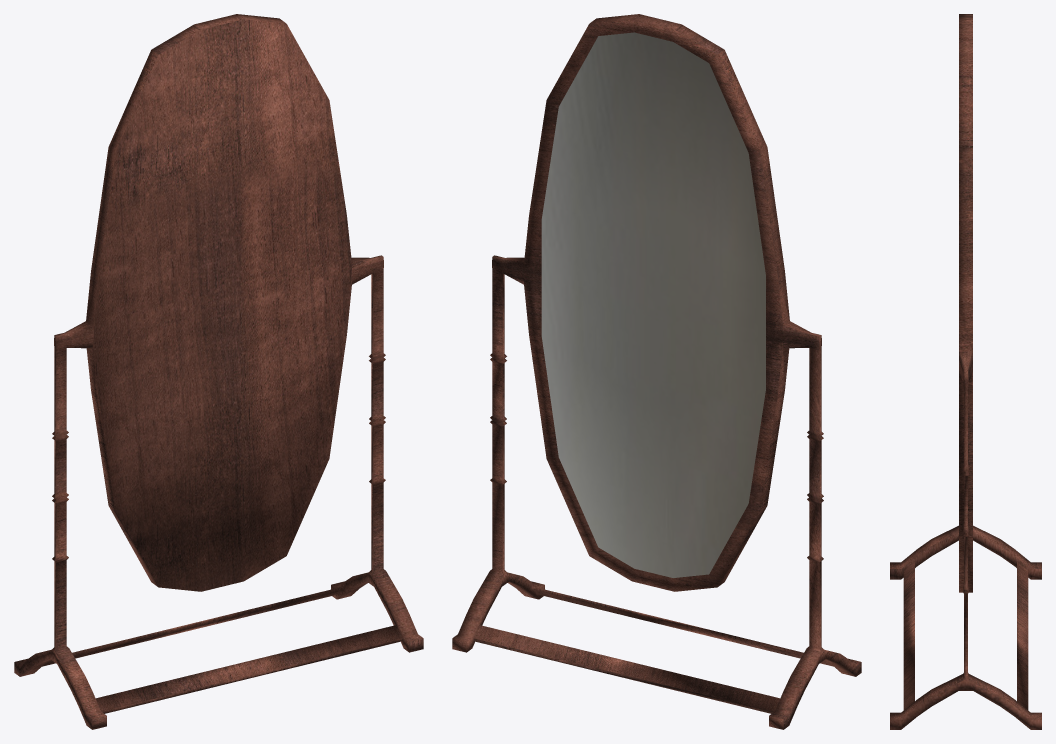
File: standing_mirror_low_poly.glb
3 views of the same model, side by side, from view 1: azimuth 30°, elevation 25°; view 2: azimuth 150°, elevation 25°; view 3: azimuth 270°, elevation 25° (orthographic). The views are drawn at different scales.
Visible parts, largest first — view 1: Object_2; view 2: Object_2; view 3: Object_2.
Boxes of the visible parts, x1,y1,x2,y2 form: Object_2: (14, 14, 423, 729); Object_2: (452, 14, 861, 729); Object_2: (890, 14, 1041, 729).
Bounding box in the file's own units: 32.14 × 59.25 × 13.13.
1 material, 1 textured.
